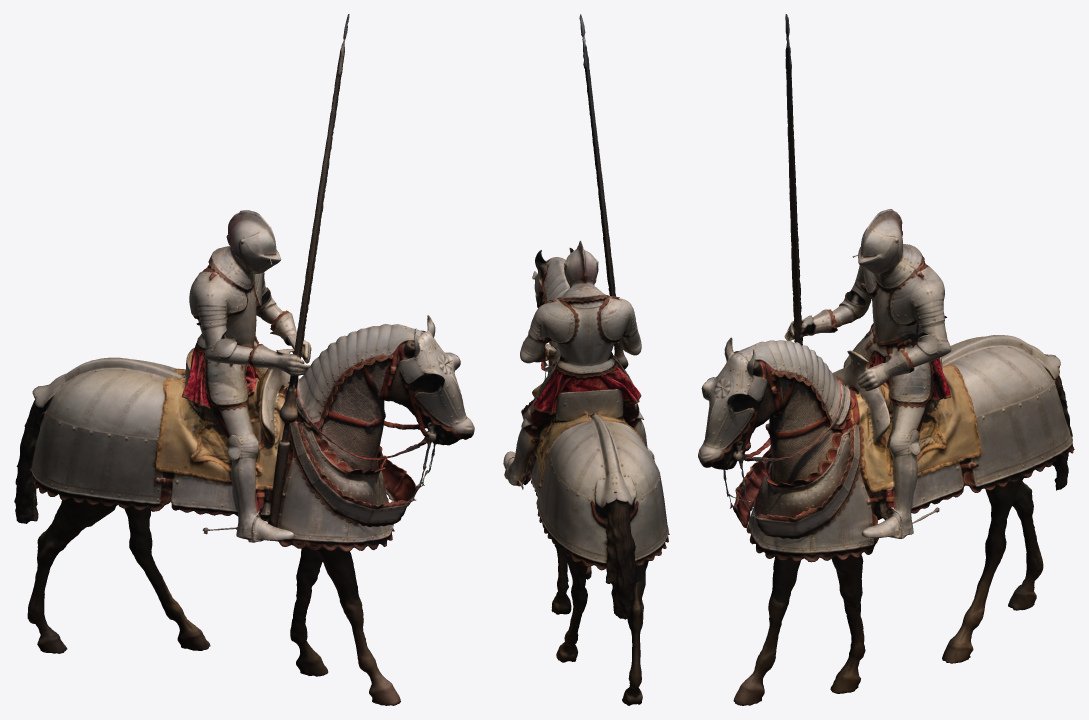
File: Knight Armored.glb
3 renders of one model, left to right at view 1: azimuth 30°, elevation 25°; view 2: azimuth 150°, elevation 25°; view 3: azimuth 270°, elevation 25°, orthographic. The views are drawn at different scales.
Visible parts, largest first — view 1: Object_2; view 2: Object_2; view 3: Object_2.
Boxes of the visible parts, left/top/right/bottom form: Object_2: left=14, top=14, right=474, bottom=705; Object_2: left=503, top=14, right=669, bottom=705; Object_2: left=698, top=14, right=1074, bottom=705.
Bounding box in the file's own units: 1.65 × 3.71 × 1.87.
1 material, 1 textured.
